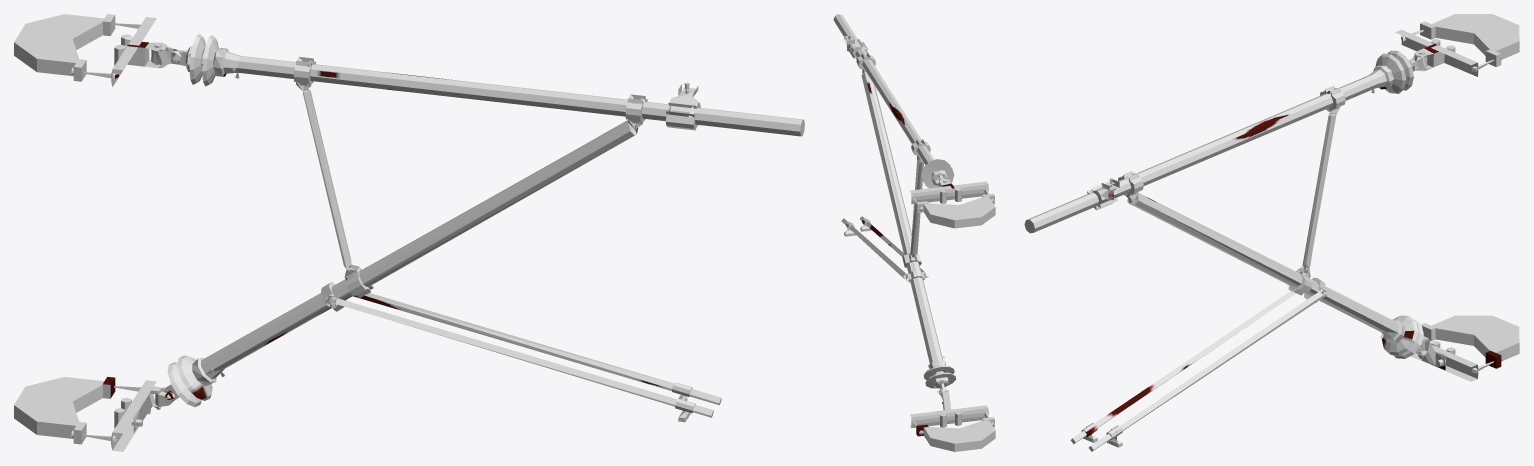
File: Bracket1a45.obj
3 renders of one model, left to right at view 1: azimuth 30°, elevation 25°; view 2: azimuth 150°, elevation 25°; view 3: azimuth 270°, elevation 25°, orthographic. The views are drawn at different scales.
Visible parts, largest first — view 1: obj1; view 2: obj1; view 3: obj1.
Part boxes in pixels (<box>): obj1: <box>14,14,804,451</box>; obj1: <box>833,14,995,451</box>; obj1: <box>1024,14,1519,451</box>.
Size of the model in its own units: 1.65 by 1.22 by 1.65.
Materials: 1 (1 with a texture image).
